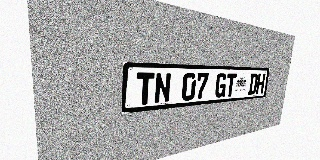0: (181, 73, 196, 101)
7: (195, 73, 209, 100)
D: (248, 73, 258, 95)
G: (214, 73, 227, 98)
H: (256, 73, 265, 94)
N: (154, 73, 171, 104)
T: (136, 72, 155, 106), (225, 73, 237, 97)
